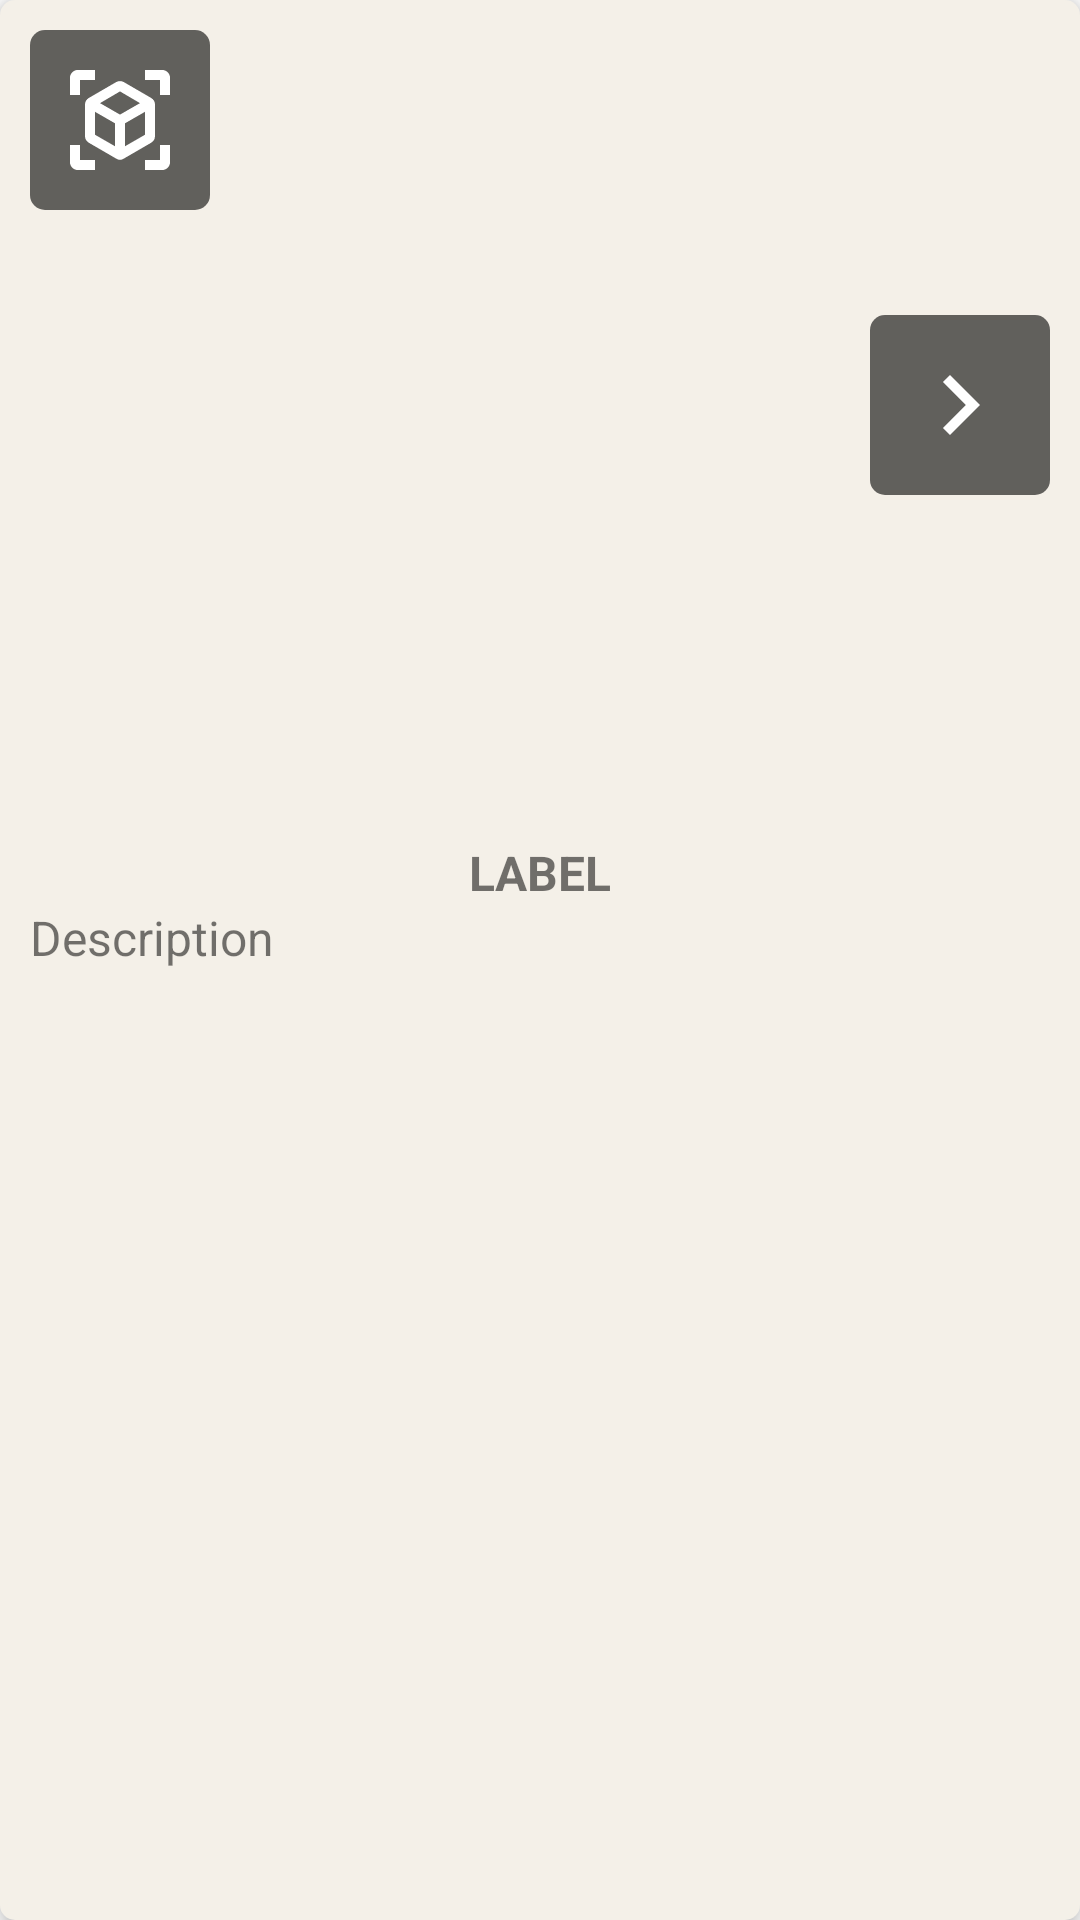

Icons on this 1080 × 1920 Android screen, each with its box as Rect(x1, y1, x2, y2):
arkit: Rect(30, 30, 210, 210)
chevron right: Rect(870, 315, 1050, 495)
